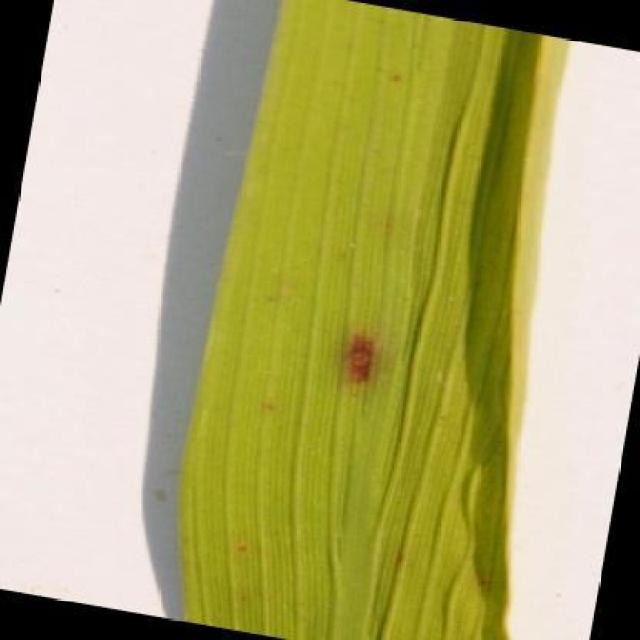Leaf_Blast: (292, 308, 418, 409)
